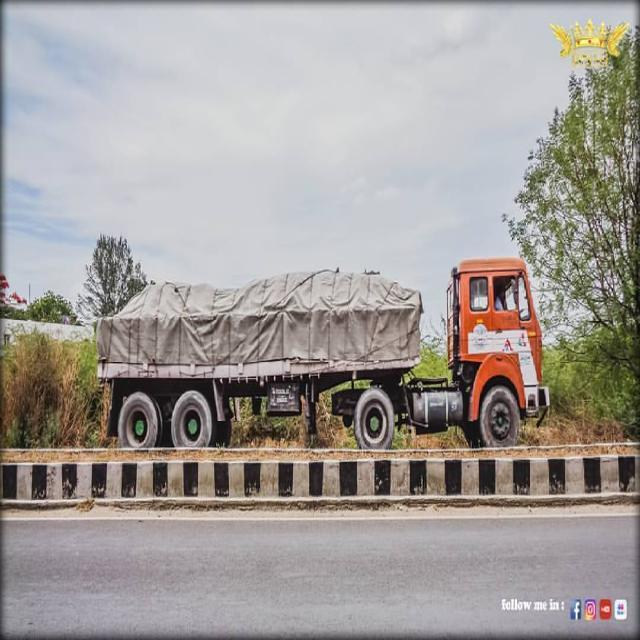Truck: (92, 254, 553, 446)
